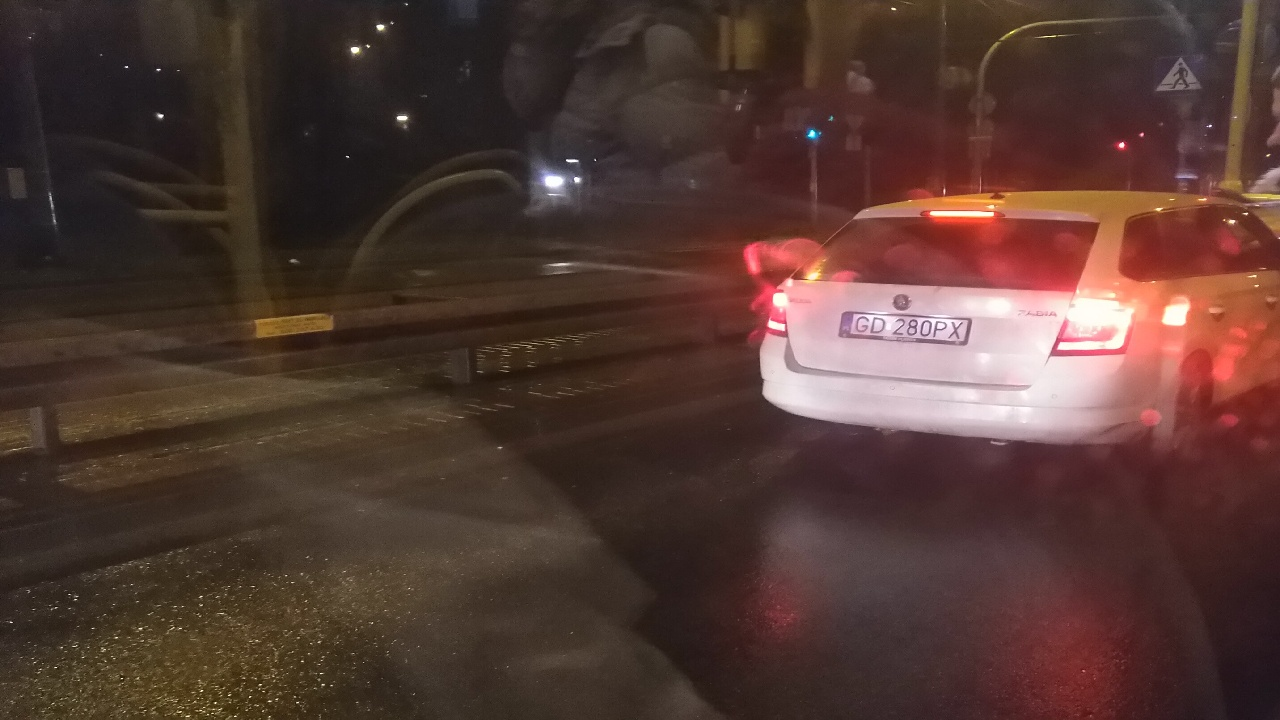D6: (1154, 55, 1208, 96)
